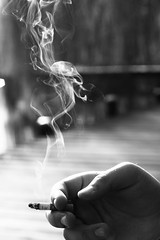cigarette: (25, 200, 77, 213)
